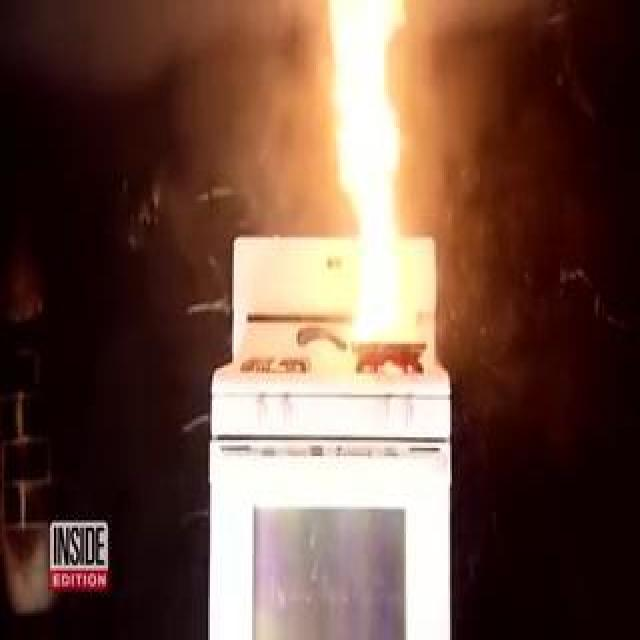Fire: (122, 180, 378, 354)
